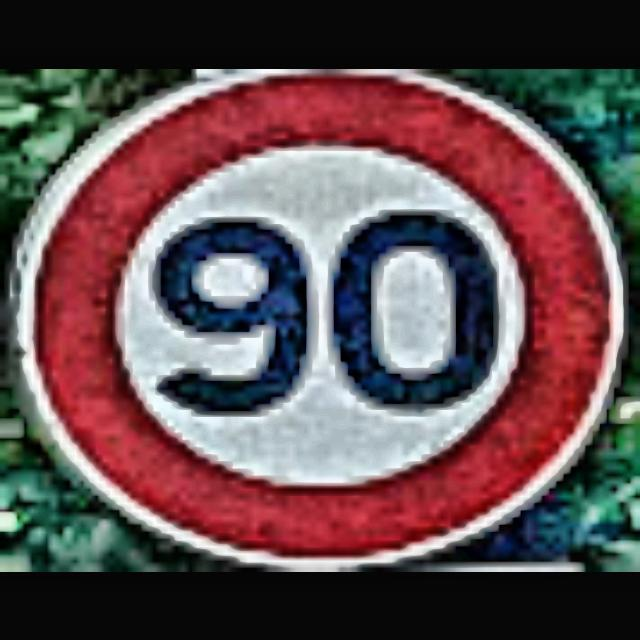speed_90: (0, 68, 632, 564)
